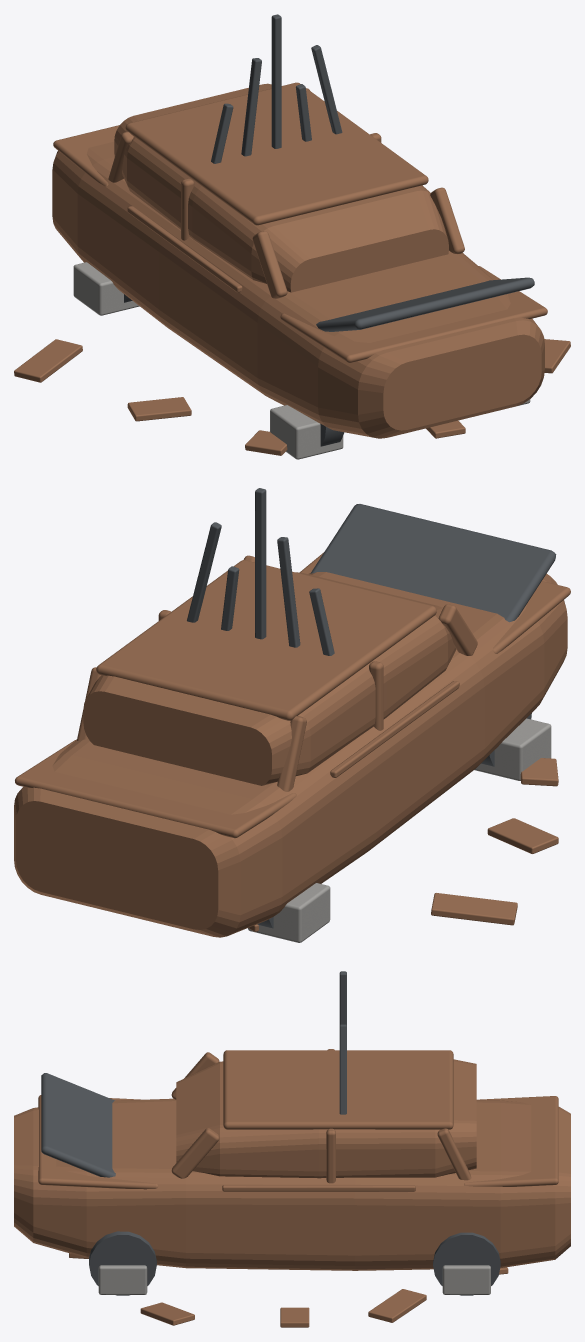
File: battle-royale-town-and-airfield-burnt-car-shell-129e9e0e__28262.glb
3 views of the same model, one above another, from view 1: azimuth 30°, elevation 25°; view 2: azimuth 150°, elevation 25°; view 3: azimuth 270°, elevation 25° (orthographic). The views are drawn at different scales.
Parts seen in each view (by area): view 1: burnt-car-shell; view 2: burnt-car-shell; view 3: burnt-car-shell.
Boxes of the visible parts, left/top/right/bottom form: burnt-car-shell: left=14, top=14, right=570, bottom=459; burnt-car-shell: left=14, top=488, right=570, bottom=942; burnt-car-shell: left=14, top=971, right=570, bottom=1327.
Size of the model in its own units: 3.68 by 2.52 by 4.6.
Materials: 3 (1 with a texture image).
